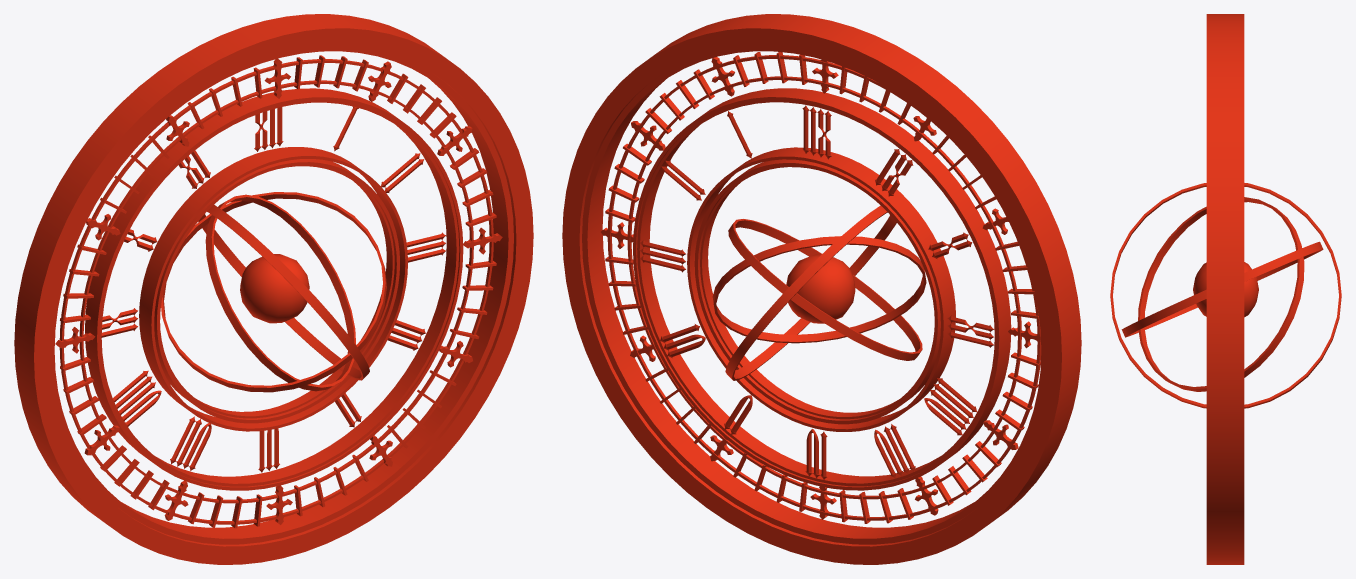
File: SM_MidbossBall.fbx
3 renders of one model, left to right at view 1: azimuth 30°, elevation 25°; view 2: azimuth 150°, elevation 25°; view 3: azimuth 270°, elevation 25°, orthographic. The views are drawn at different scales.
Parts seen in each view (by area): view 1: MidbossBall02_low, MidbossBall03_low, MidbossBall01_low; view 2: MidbossBall02_low, MidbossBall03_low, MidbossBall01_low; view 3: MidbossBall02_low, MidbossBall01_low.
Part boxes in pixels (x1,y1,x2,y2): MidbossBall02_low: (14, 14, 533, 564); MidbossBall03_low: (55, 55, 502, 528); MidbossBall01_low: (161, 192, 386, 392); MidbossBall02_low: (562, 14, 1081, 564); MidbossBall03_low: (601, 52, 1041, 523); MidbossBall01_low: (712, 205, 926, 380); MidbossBall02_low: (1206, 14, 1244, 564); MidbossBall01_low: (1110, 183, 1341, 408).
Size of the model in its own units: 658 by 658 by 276.
